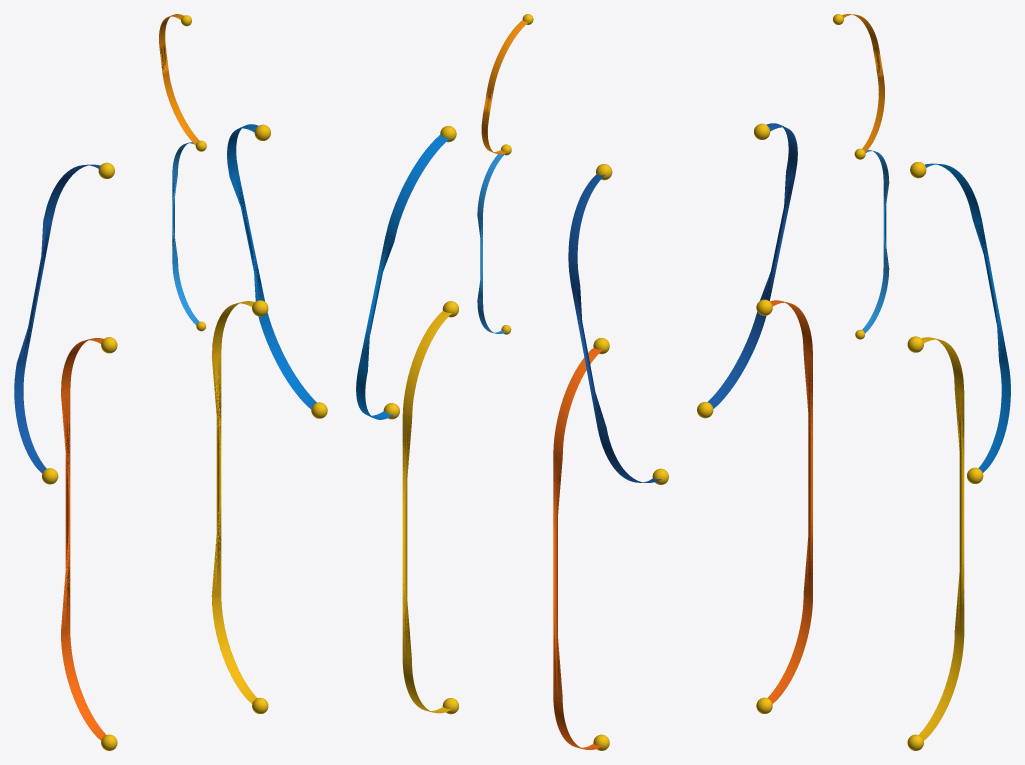
Rendered from HR-30_power_route_guides_candidate.glb.
3 renders of one model, left to right at view 1: azimuth 30°, elevation 25°; view 2: azimuth 150°, elevation 25°; view 3: azimuth 330°, elevation 25°, orthographic.
Parts seen in each view (by area): view 1: HN01_L_LEG_POWER, HN01_R_LEG_POWER, HN01_R_ARM_POWER, HN01_L_ARM_POWER, HN01_HEAD_POWER_BRANCH, HN01_TORSO_POWER_SPINE; view 2: HN01_L_LEG_POWER, HN01_R_LEG_POWER, HN01_L_ARM_POWER, HN01_R_ARM_POWER, HN01_HEAD_POWER_BRANCH, HN01_TORSO_POWER_SPINE; view 3: HN01_L_LEG_POWER, HN01_R_LEG_POWER, HN01_L_ARM_POWER, HN01_R_ARM_POWER, HN01_TORSO_POWER_SPINE, HN01_HEAD_POWER_BRANCH.
Boxes of the visible parts, x1=… form: HN01_L_LEG_POWER: x1=211, y1=301, x2=257, y2=703; HN01_R_LEG_POWER: x1=61, y1=338, x2=105, y2=740; HN01_R_ARM_POWER: x1=14, y1=164, x2=100, y2=473; HN01_L_ARM_POWER: x1=227, y1=124, x2=316, y2=409; HN01_HEAD_POWER_BRANCH: x1=159, y1=14, x2=199, y2=144; HN01_TORSO_POWER_SPINE: x1=172, y1=142, x2=199, y2=325; HN01_L_LEG_POWER: x1=402, y1=311, x2=451, y2=713; HN01_R_LEG_POWER: x1=553, y1=347, x2=602, y2=749; HN01_L_ARM_POWER: x1=356, y1=134, x2=449, y2=419; HN01_R_ARM_POWER: x1=568, y1=174, x2=661, y2=482; HN01_HEAD_POWER_BRANCH: x1=481, y1=20, x2=528, y2=154; HN01_TORSO_POWER_SPINE: x1=477, y1=153, x2=506, y2=333; HN01_L_LEG_POWER: x1=919, y1=337, x2=964, y2=740; HN01_R_LEG_POWER: x1=767, y1=300, x2=812, y2=703; HN01_L_ARM_POWER: x1=925, y1=163, x2=1010, y2=472; HN01_R_ARM_POWER: x1=708, y1=123, x2=797, y2=408; HN01_TORSO_POWER_SPINE: x1=862, y1=149, x2=889, y2=333; HN01_HEAD_POWER_BRANCH: x1=842, y1=14, x2=884, y2=151.
Size of the model in its own units: 280 by 677 by 82.62.
